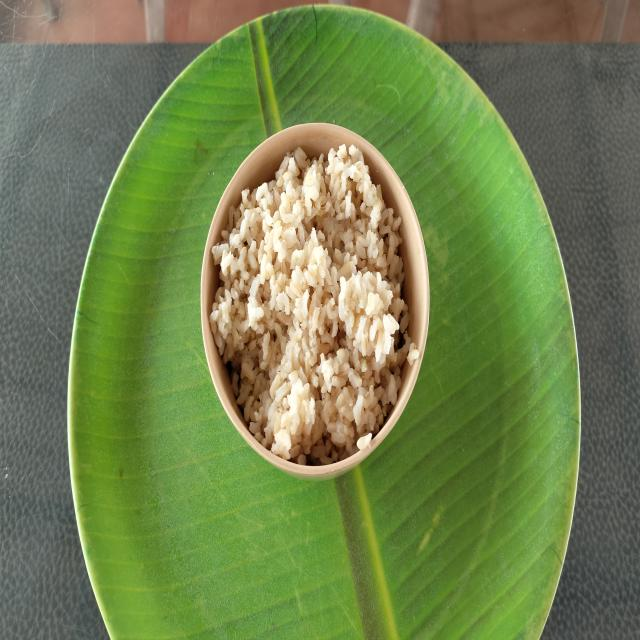brown-rice: (210, 144, 411, 465)
